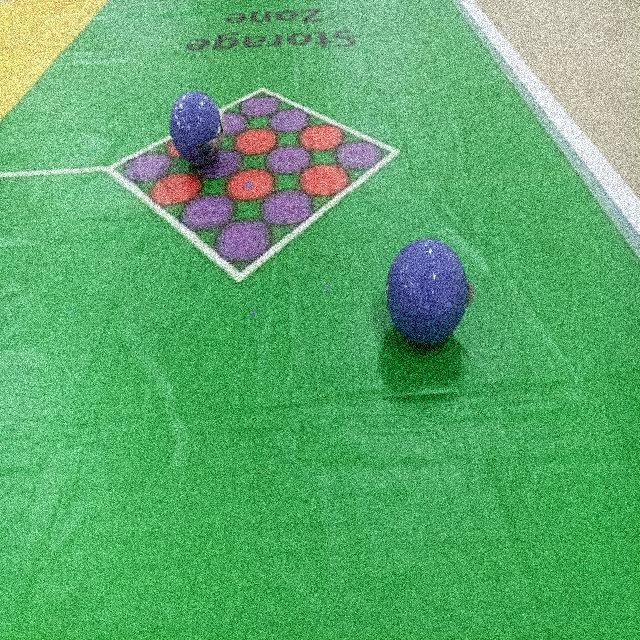purple_ball: (388, 239, 467, 347), (170, 91, 220, 164)
